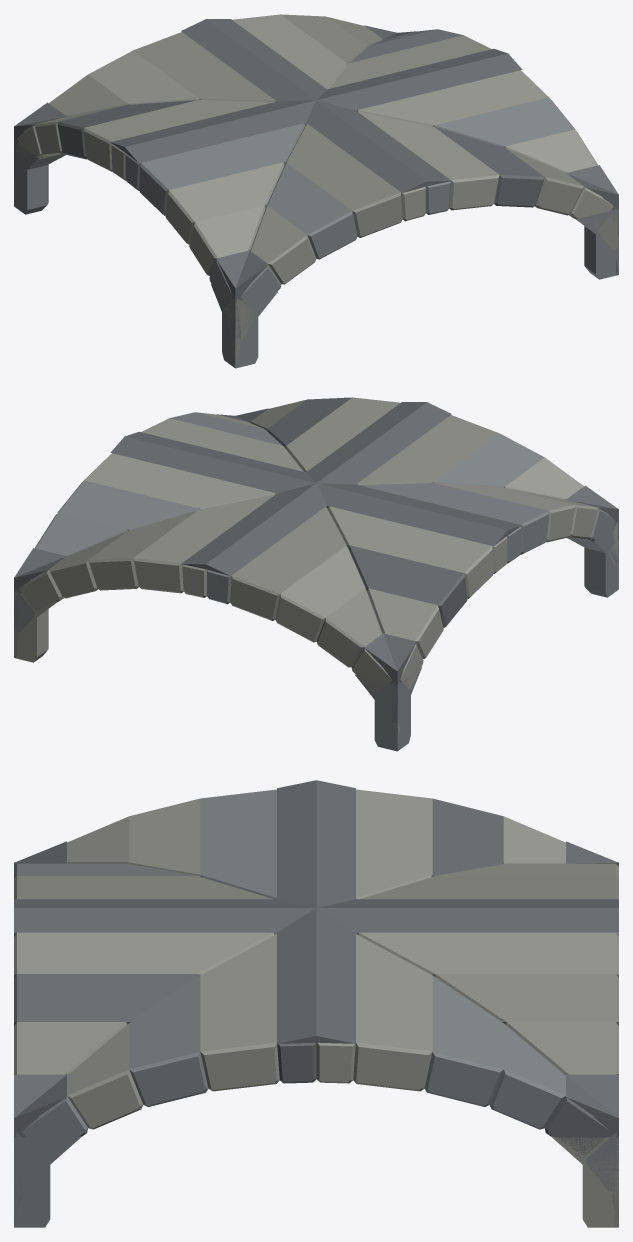
Rendered from SM_LPD_Struct_CeilVaultBayCross_01.fbx.
3 renders of one model, top to bottom at view 1: azimuth 30°, elevation 25°; view 2: azimuth 150°, elevation 25°; view 3: azimuth 270°, elevation 25°, orthographic. The views are drawn at different scales.
Parts seen in each view (by area): view 1: SM_LPD_Struct_CeilVaultBayCross_01; view 2: SM_LPD_Struct_CeilVaultBayCross_01; view 3: SM_LPD_Struct_CeilVaultBayCross_01.
Boxes of the visible parts, x1,y1,x2,y2 form: SM_LPD_Struct_CeilVaultBayCross_01: (14, 14, 618, 368); SM_LPD_Struct_CeilVaultBayCross_01: (14, 397, 618, 751); SM_LPD_Struct_CeilVaultBayCross_01: (14, 780, 618, 1227).
Bounding box in the file's own units: 4 × 1.4 × 4.
